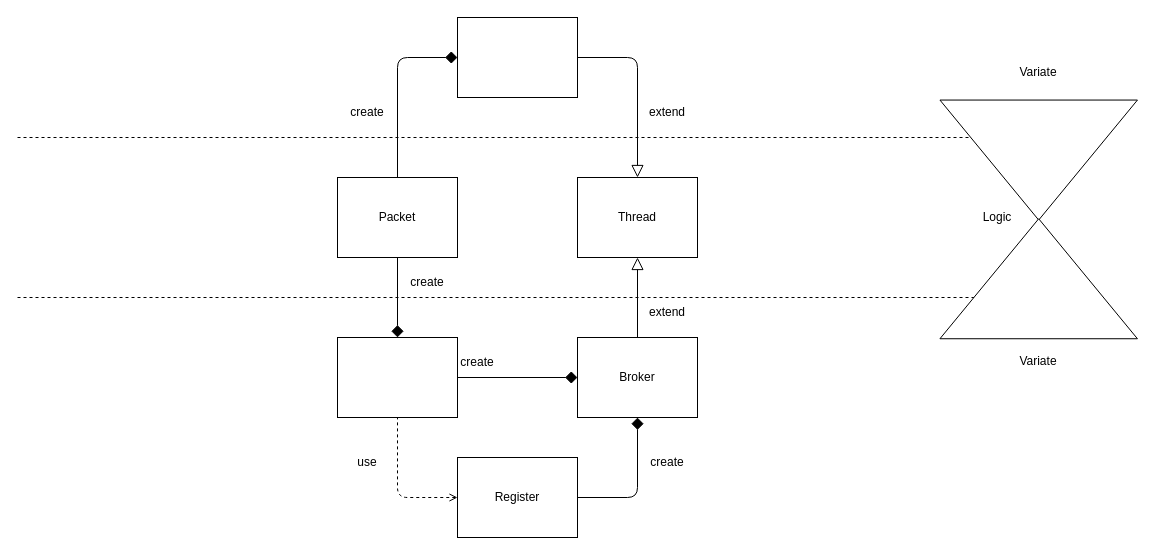
The diagram is 1155 pixels wide and 555 high, and some of its shapes have lost their labels. Each missing label, with the centre of its shape:
Client: the point at 517,57
Session: the point at 397,377
